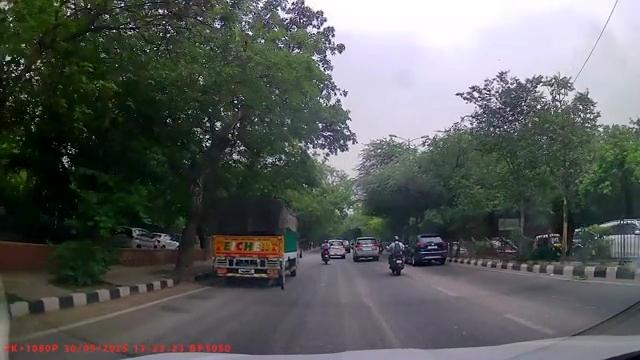motorcycle_with_helmet: (386, 235, 406, 276)
